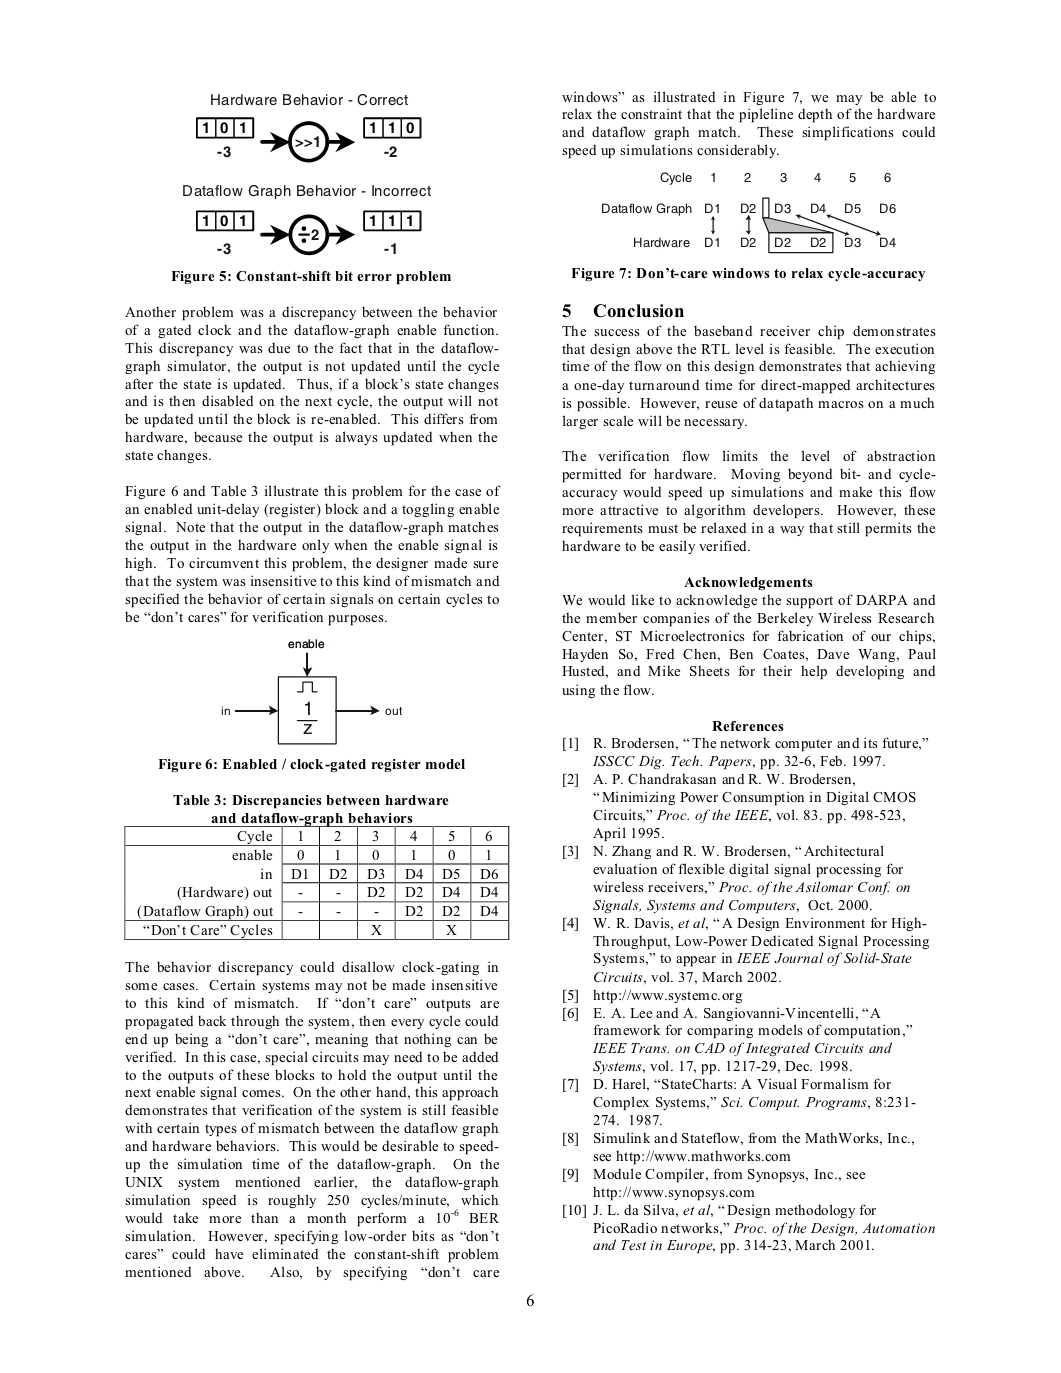Table: (124, 825, 509, 939)
figure: (602, 172, 895, 253), (221, 651, 402, 744), (196, 115, 421, 163), (196, 210, 421, 256)
